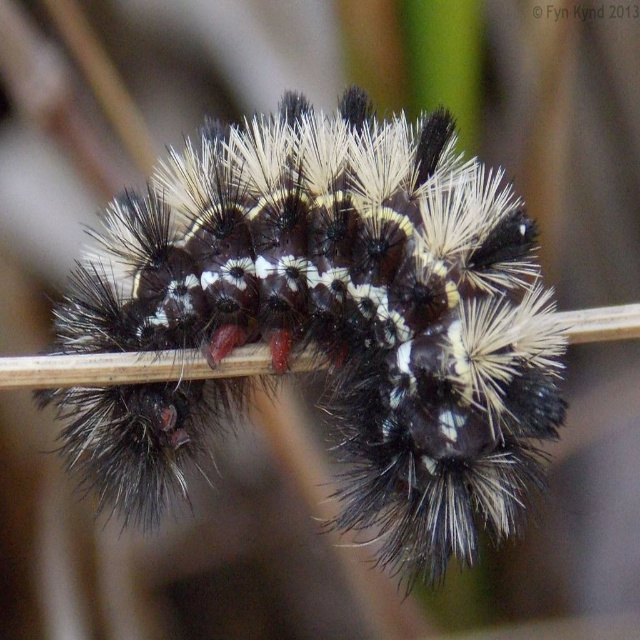Caterpillar: (29, 90, 572, 610)
